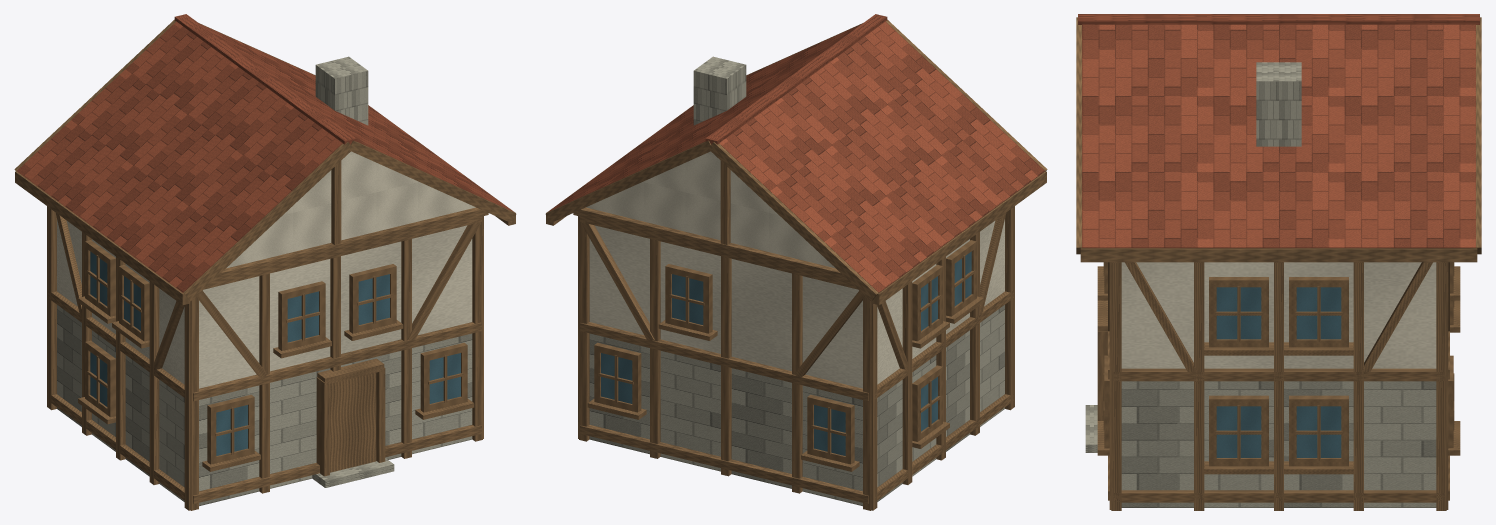
3 views of the same model, side by side, from view 1: azimuth 30°, elevation 25°; view 2: azimuth 150°, elevation 25°; view 3: azimuth 270°, elevation 25° (orthographic). The views are drawn at different scales.
Parts seen in each view (by area): view 1: house-wood, house-roof, house-plaster, house-stone, house-glass; view 2: house-wood, house-roof, house-plaster, house-stone, house-glass; view 3: house-roof, house-wood, house-stone, house-plaster, house-glass.
Boxes of the visible parts, x1=… form: house-wood: x1=14, y1=19, x2=516, y2=510; house-roof: x1=17, y1=14, x2=513, y2=292; house-plaster: x1=57, y1=151, x2=475, y2=388; house-stone: x1=57, y1=56, x2=472, y2=506; house-glass: x1=90, y1=251, x2=460, y2=455; house-wood: x1=545, y1=19, x2=1047, y2=510; house-roof: x1=548, y1=14, x2=1044, y2=292; house-plaster: x1=586, y1=151, x2=1004, y2=388; house-stone: x1=589, y1=56, x2=1004, y2=506; house-glass: x1=601, y1=251, x2=971, y2=455; house-roof: x1=1078, y1=14, x2=1479, y2=248; house-wood: x1=1076, y1=17, x2=1481, y2=510; house-stone: x1=1085, y1=62, x2=1436, y2=507; house-plaster: x1=1121, y1=262, x2=1436, y2=368; house-glass: x1=1216, y1=287, x2=1341, y2=457.
Bounding box in the file's own units: 7.98 × 7.9 × 7.1.
5 materials, 5 textured.
